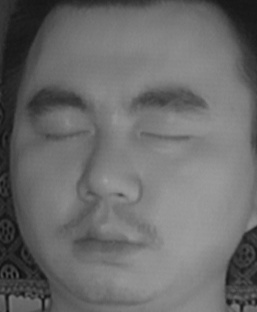blink: (139, 115, 196, 154), (38, 114, 92, 152)
mouth: (66, 213, 145, 268)
